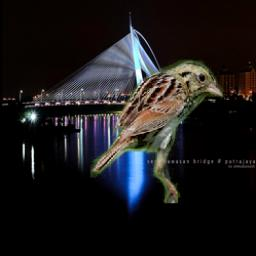Sparrow: (92, 61, 224, 204)
